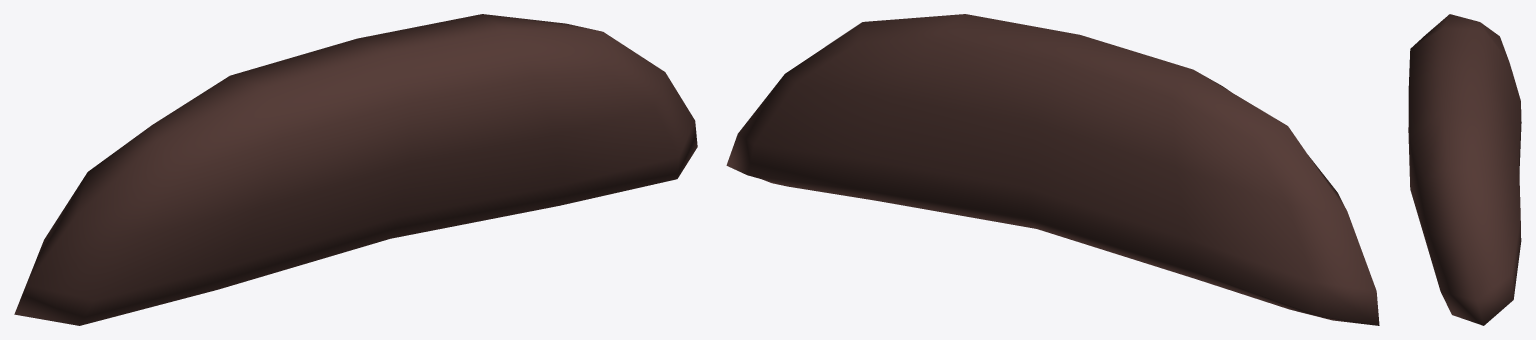
Rendered from Mustache_Brown_012.glb.
3 renders of one model, left to right at view 1: azimuth 30°, elevation 25°; view 2: azimuth 150°, elevation 25°; view 3: azimuth 270°, elevation 25°, orthographic. The views are drawn at different scales.
Visible parts, largest first — view 1: Mustache_Brown_012; view 2: Mustache_Brown_012; view 3: Mustache_Brown_012.
Boxes of the visible parts, x1,y1,x2,y2 form: Mustache_Brown_012: (14,14,697,325); Mustache_Brown_012: (726,14,1379,325); Mustache_Brown_012: (1408,14,1521,325).
Bounding box in the file's own units: 0.1509 × 0.0433 × 0.0302.
Materials: 1 (1 with a texture image).
